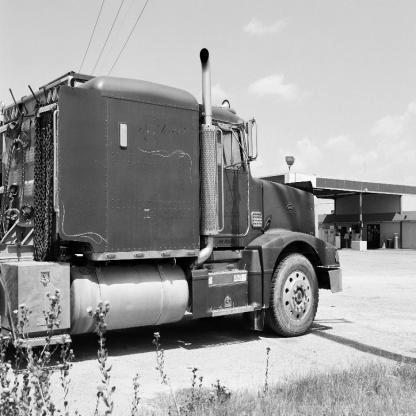truck: (1, 49, 365, 358)
